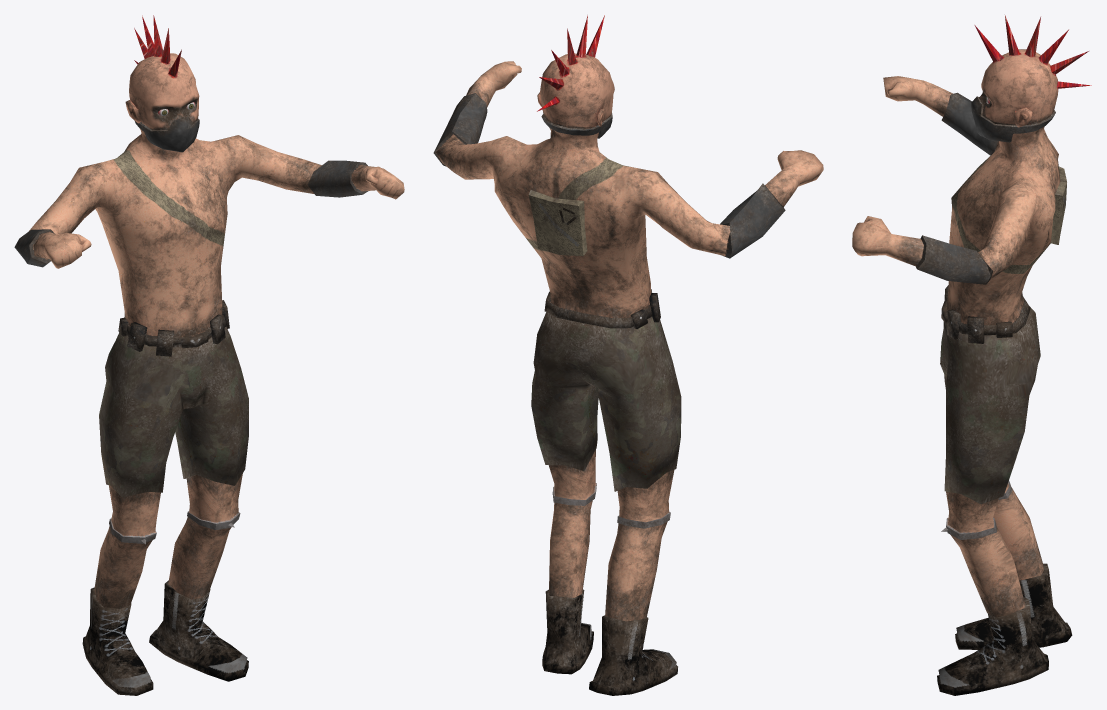
File: Anim_ganar_1_npc2.0016.obj
3 renders of one model, left to right at view 1: azimuth 30°, elevation 25°; view 2: azimuth 150°, elevation 25°; view 3: azimuth 270°, elevation 25°, orthographic. The views are drawn at different scales.
Visible parts, largest first — view 1: polySurface1; view 2: polySurface1; view 3: polySurface1.
Boxes of the visible parts, left/top/right/bottom form: polySurface1: left=14, top=15, right=404, bottom=695; polySurface1: left=433, top=15, right=823, bottom=695; polySurface1: left=852, top=15, right=1091, bottom=695.
Size of the model in its own units: 5.59 by 10.05 by 3.34.
